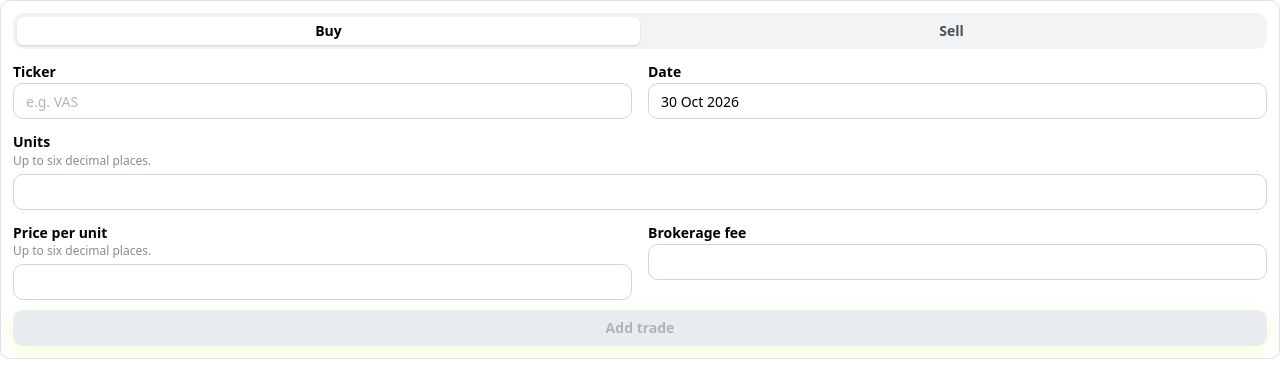
Test: TradeForm › disables the submit until a ticker, units, and price are given
Expected: the button "Add trade" is disabled, [13,310,1267,346]
Step 1. Type "VAS" into the field labelled "Ticker" → x=322, y=102, box [13,84,632,120]
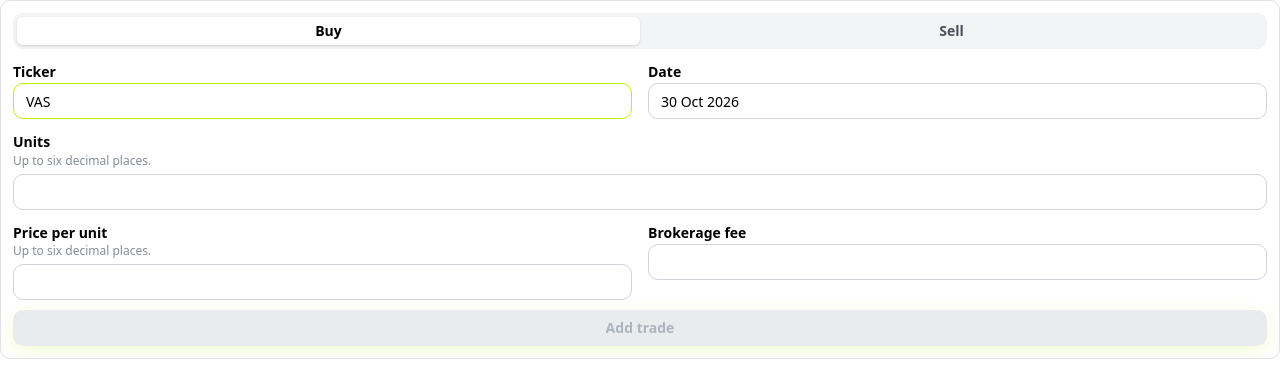
Step 2. Type "1" into the field labelled "Units" → x=640, y=192, box [13,174,1267,210]
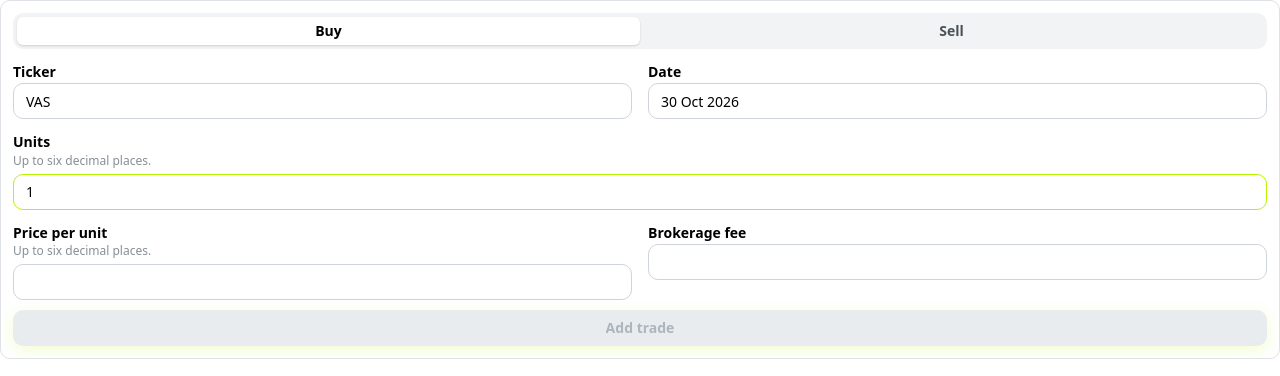
Expected: the button "Add trade" is disabled, [13,310,1267,346]
Step 3. Type "90" into the field labelled "Price per unit" → x=322, y=282, box [13,264,632,300]
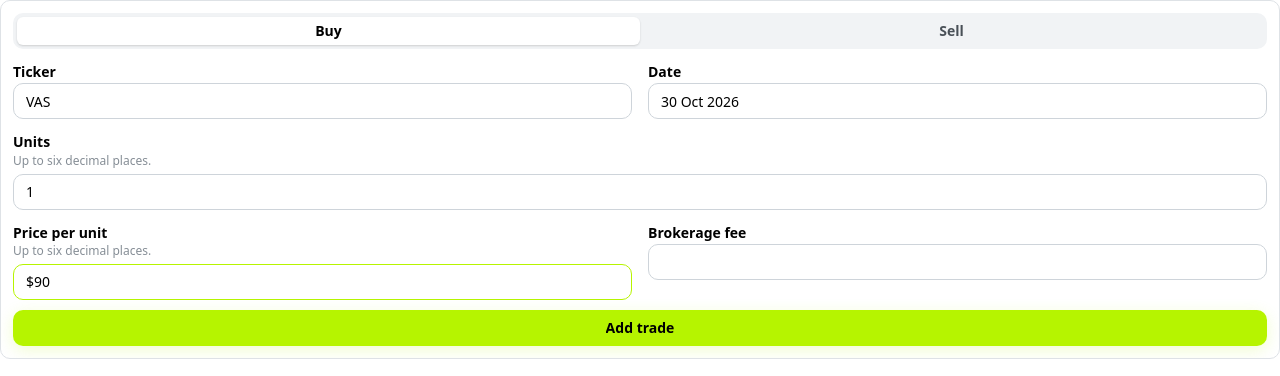
Expected: the button "Add trade" is enabled, [13,310,1267,346]
